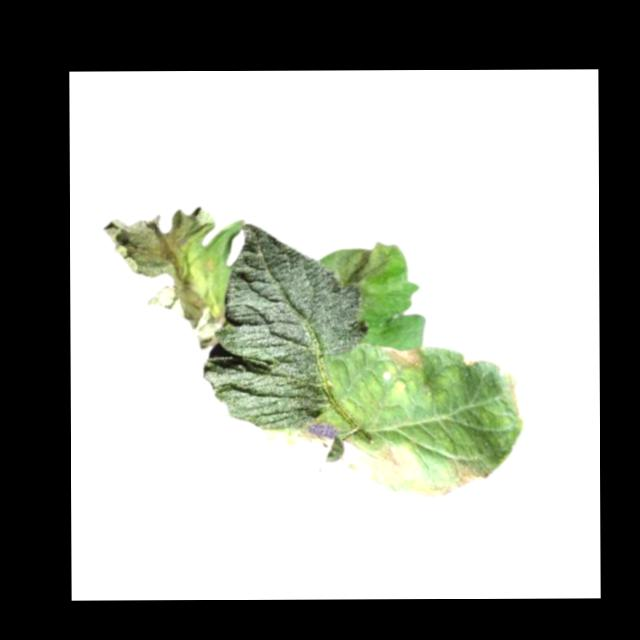Late_blight: (102, 206, 224, 352), (339, 439, 413, 489), (423, 455, 491, 499), (333, 239, 392, 287), (383, 347, 426, 372), (507, 371, 523, 419), (459, 350, 477, 367)
healthy: (203, 223, 367, 428)
